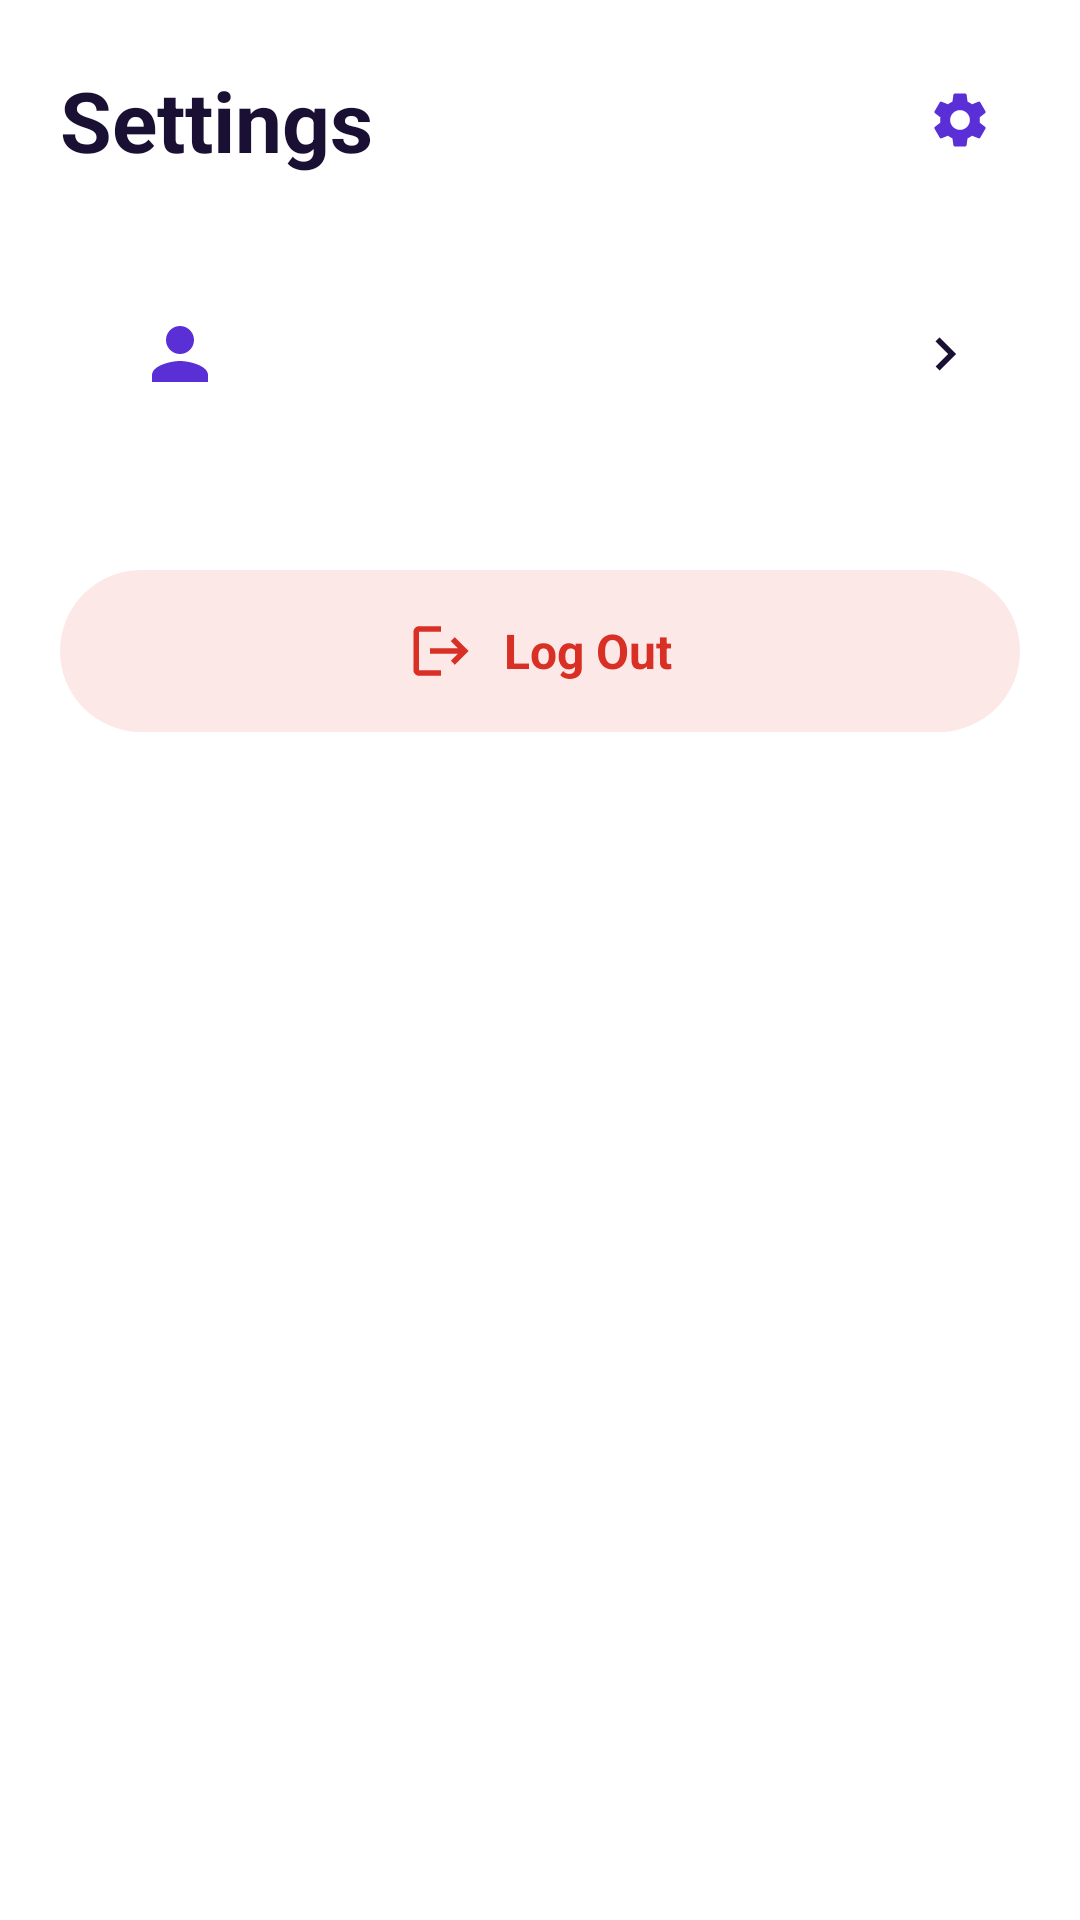

Where icons sit on this 1080w x 1920h app screen, as [x1, y1, x2, y2]:
chevron: [935, 337, 956, 371]
person: [152, 326, 208, 382]
settings: [934, 93, 986, 147]
